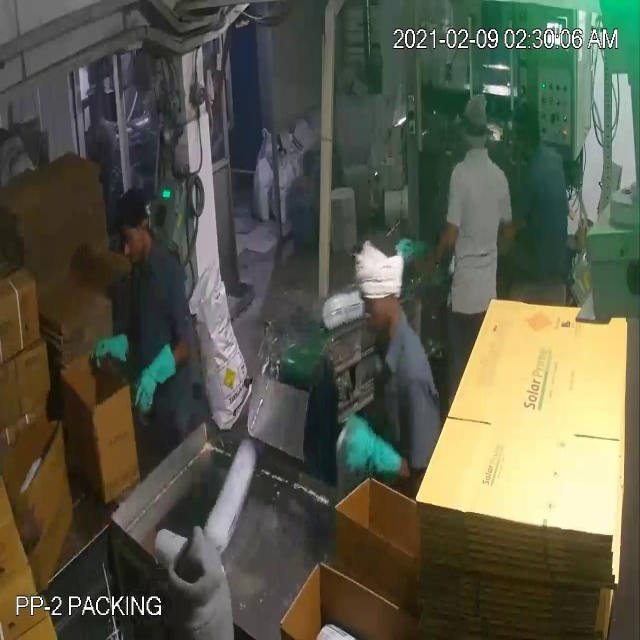Guantes: (334, 401, 408, 492), (130, 340, 184, 419), (83, 310, 142, 375)
Sin_guantes: (412, 211, 461, 283)
